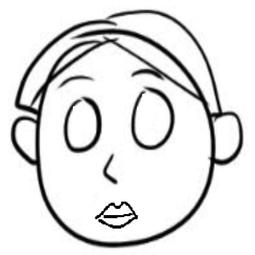cupid_mouth: (90, 199, 146, 234)
ear: (205, 108, 246, 168), (6, 115, 50, 166)
empty_eye: (130, 84, 180, 159), (61, 92, 101, 156)
eyebrow: (57, 74, 97, 90), (129, 67, 166, 80)
pointy_nose: (98, 153, 124, 190)
